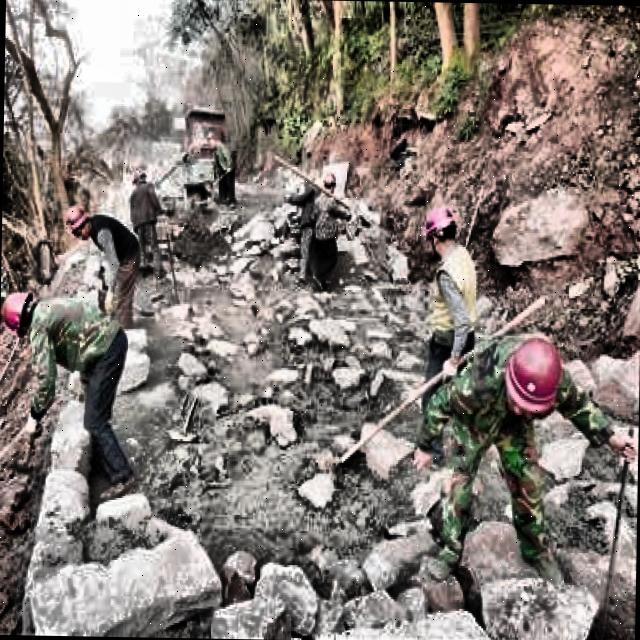helmet: (502, 335, 570, 422), (420, 200, 460, 260), (1, 286, 42, 336), (64, 200, 94, 244)
